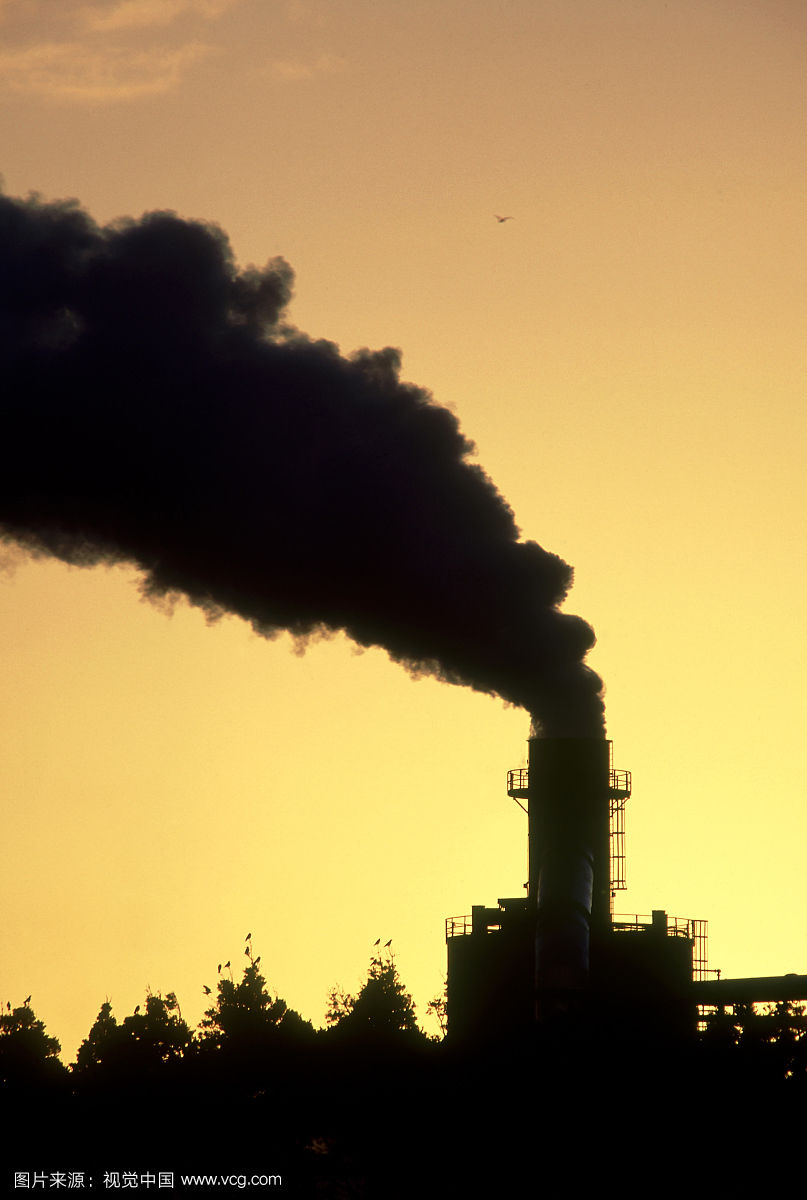dust: (10, 198, 643, 782)
